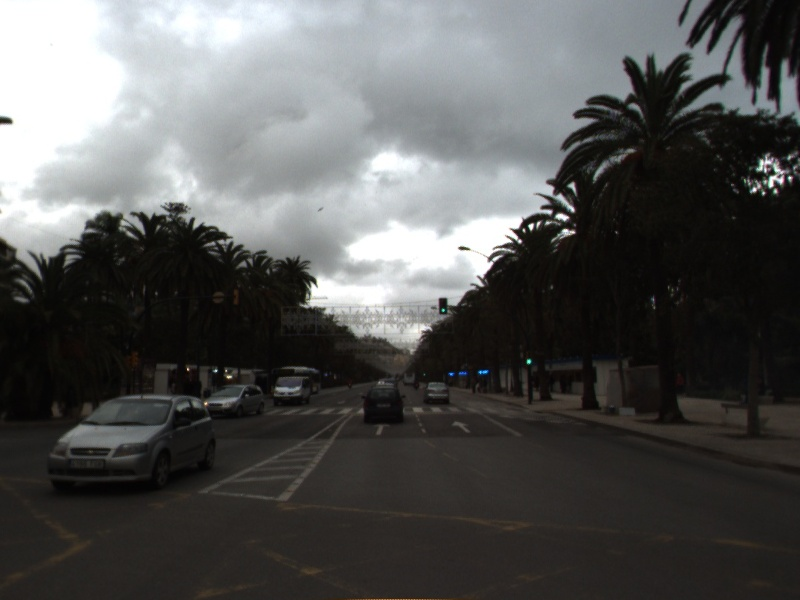STRAIGHT: (449, 419, 474, 435), (370, 421, 392, 437)
